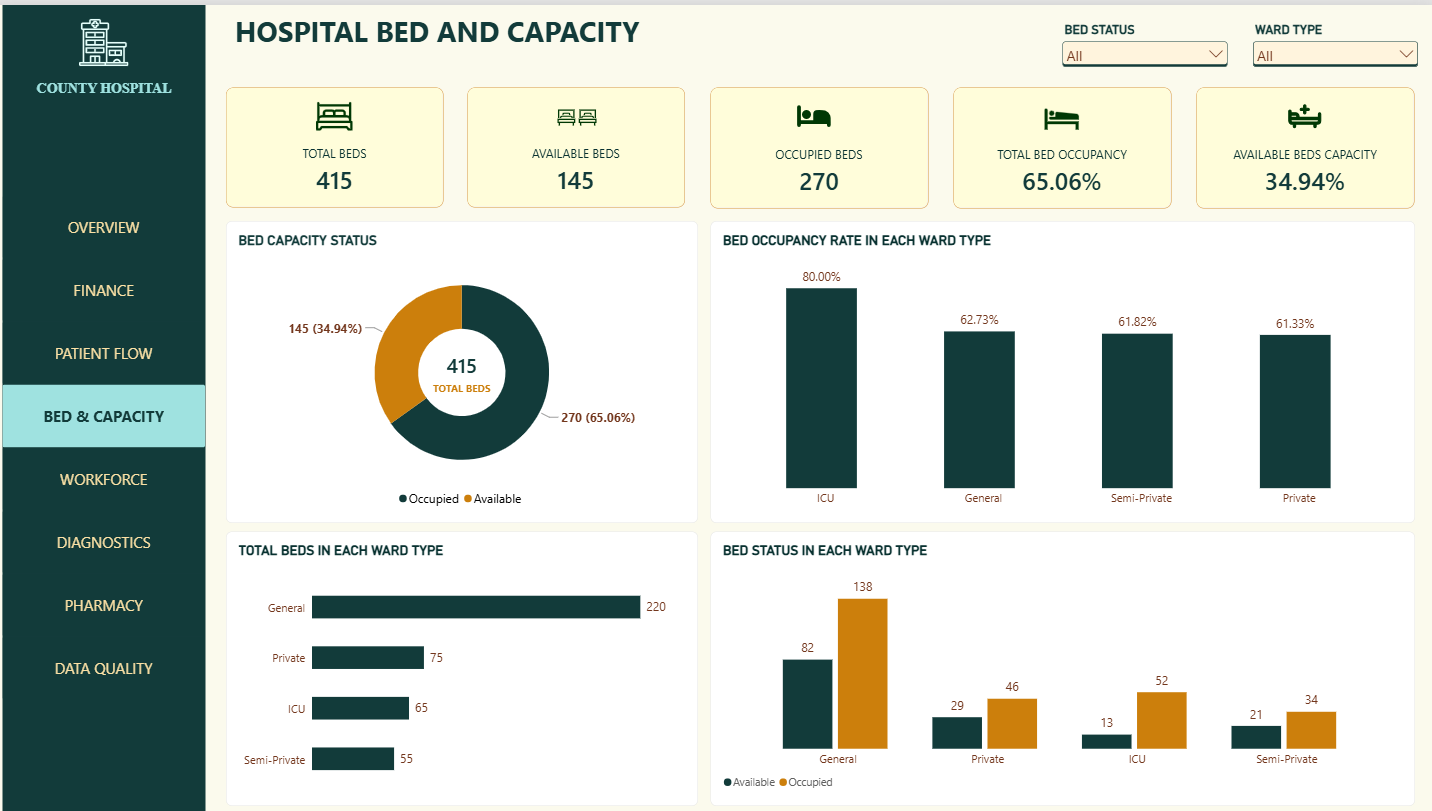

This screenshot's page, from the dashboard's own definition file:
{"tool":"powerbi","page":{"name":"BED & CAPACITY","canvas":[1920,1080],"ordinal":3},"visuals":[{"type":"shape","box":[9.8,0,270.8,1080.8],"z":0,"group":"g6"},{"type":"image","box":[112.3,0,65.9,100],"z":0,"group":"g2"},{"type":"textbox","box":[280.6,0,788.1,78.1],"z":0},{"type":"cardVisual","fields":{"Data":["DateTable.TOTAL BEDS"]},"box":[307.4,109.8,290,160],"z":0,"group":"g4"},{"type":"textbox","box":[9.8,100,270.8,63.4],"z":1000,"group":"g2"},{"type":"group","id":"g1","title":"Group 3","box":[1278.5,109.8,290.3,161],"z":1000},{"type":"image","box":[428.2,124.4,48.8,48.8],"z":1000,"group":"g4"},{"type":"pageNavigator","box":[9.8,253.7,270.8,673.4],"z":1000,"group":"g6"},{"type":"group","id":"g2","title":"Group 1","box":[9.8,0,270.8,163.5],"z":2000,"group":"g6"},{"type":"cardVisual","fields":{"Data":["DateTable.OCCUPIED BEDS"]},"box":[954,109.8,290.3,161],"z":2000},{"type":"cardVisual","fields":{"Data":["hospital_operations_analysis admission_clean_view.TOTAL BED OCCUPANCY"]},"box":[1278.5,109.8,290.3,161],"z":2000,"group":"g1"},{"type":"group","id":"g3","title":"Group 5","box":[1603,109.8,290.3,161],"z":3000},{"type":"group","id":"g4","title":"Group 6","box":[307.4,109.8,287.9,161],"z":4000},{"type":"cardVisual","fields":{"Data":["DateTable.AVAILABLE BEDS CAPACITY"]},"box":[1603,109.8,290.3,161],"z":4000,"group":"g3"},{"type":"group","id":"g5","title":"Group 1","box":[629.5,109.8,290,160],"z":5000},{"type":"image","box":[1398,124.4,48.8,48.8],"z":6000},{"type":"image","box":[749,124.4,52,52],"z":7000},{"type":"image","box":[1068.6,124.4,48,48],"z":8000},{"type":"cardVisual","fields":{"Data":["DateTable.AVAILABLE BEDS"]},"box":[629.5,109.8,290,160],"z":9000,"group":"g5"},{"type":"image","box":[1722.5,124.4,48.8,48.8],"z":9000},{"type":"donutChart","title":"BED CAPACITY STATUS","fields":{"Category":["hospital_operations_analysis bed.bed_status"],"Y":["DateTable.TOTAL BEDS"]},"box":[307.4,287.9,629.5,402.6],"z":10000},{"type":"clusteredColumnChart","title":"BED OCCUPANCY RATE IN EACH WARD TYPE","fields":{"Category":["hospital_operations_analysis ward.ward_type"],"Y":["hospital_operations_analysis admission_clean_view.TOTAL BED OCCUPANCY"]},"box":[954,287.9,939.3,402.6],"z":11000},{"type":"clusteredBarChart","title":"TOTAL BEDS IN EACH WARD TYPE","fields":{"Category":["hospital_operations_analysis ward.ward_type"],"Y":["DateTable.TOTAL BEDS"]},"box":[307.4,702.7,629.5,366],"z":12000},{"type":"clusteredColumnChart","title":"BED STATUS IN EACH WARD TYPE","fields":{"Category":["hospital_operations_analysis ward.ward_type"],"Series":["hospital_operations_analysis bed.bed_status"],"Y":["DateTable.TOTAL BEDS"]},"box":[954,702.7,939.3,366],"z":13000},{"type":"group","id":"g6","title":"Group 2","box":[9.8,0,270.8,1080.8],"z":14000},{"type":"slicer","fields":{"Values":["hospital_operations_analysis bed.bed_status"]},"box":[1417.5,22,230,78.1],"z":18000},{"type":"slicer","fields":{"Values":["hospital_operations_analysis ward.ward_type"]},"box":[1671.3,22,230,78.1],"z":19000}]}

Visuals, with their boxes in screenshot pixels (x1, y1, x2, y2), scaled from the page's 1920x1080 canvas onto the 1432x811 screenshot:
shape: <box>7,0,209,810</box>
image: <box>84,0,133,75</box>
textbox: <box>209,0,797,59</box>
cardVisual - DateTable.TOTAL BEDS: <box>229,82,446,203</box>
textbox: <box>7,75,209,123</box>
"Group 3" group: <box>954,82,1170,203</box>
image: <box>319,93,356,130</box>
pageNavigator: <box>7,191,209,696</box>
"Group 1" group: <box>7,0,209,123</box>
cardVisual - DateTable.OCCUPIED BEDS: <box>712,82,928,203</box>
cardVisual - hospital_operations_analysis admission_clean_view.TOTAL BED OCCUPANCY: <box>954,82,1170,203</box>
"Group 5" group: <box>1196,82,1412,203</box>
"Group 6" group: <box>229,82,444,203</box>
cardVisual - DateTable.AVAILABLE BEDS CAPACITY: <box>1196,82,1412,203</box>
"Group 1" group: <box>470,82,686,203</box>
image: <box>1043,93,1079,130</box>
image: <box>559,93,597,132</box>
image: <box>797,93,833,129</box>
cardVisual - DateTable.AVAILABLE BEDS: <box>470,82,686,203</box>
image: <box>1285,93,1321,130</box>
"BED CAPACITY STATUS" donutChart: <box>229,216,699,519</box>
"BED OCCUPANCY RATE IN EACH WARD TYPE" clusteredColumnChart: <box>712,216,1412,519</box>
"TOTAL BEDS IN EACH WARD TYPE" clusteredBarChart: <box>229,528,699,803</box>
"BED STATUS IN EACH WARD TYPE" clusteredColumnChart: <box>712,528,1412,803</box>
"Group 2" group: <box>7,0,209,810</box>
slicer - hospital_operations_analysis bed.bed_status: <box>1057,17,1229,75</box>
slicer - hospital_operations_analysis ward.ward_type: <box>1247,17,1418,75</box>
